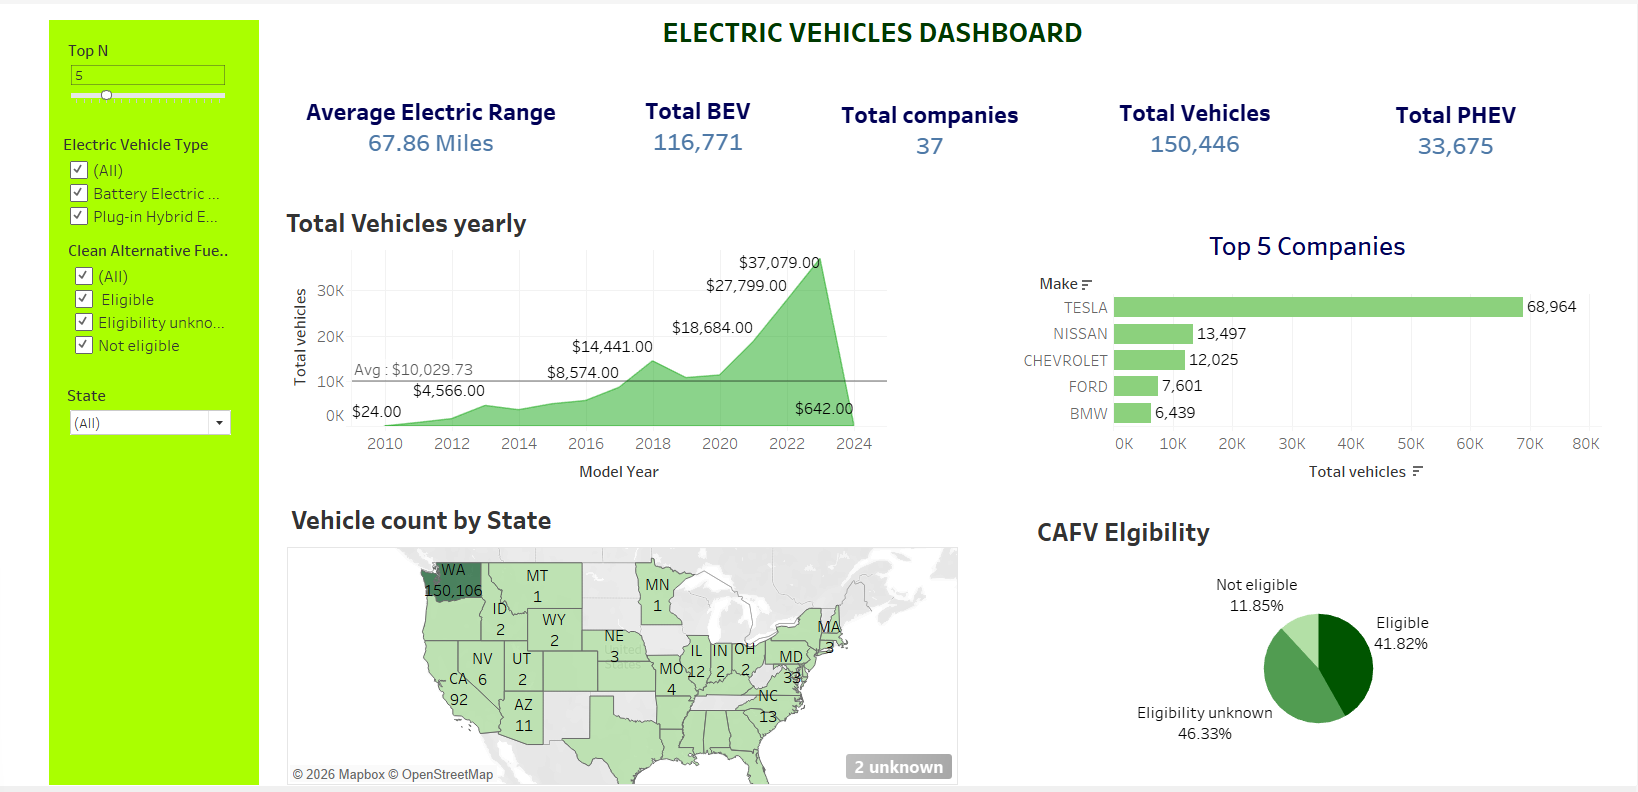

The dashboard page shown, as its layout file describes it:
{"tool":"tableau","page":{"name":"Dashboard 1","canvas":[1000,1000],"units":"permille","ordinal":0},"visuals":[{"type":"text","box":[350.6,7.7,258.8,55.1]},{"type":"parameter","param":"[Parameters].[Parameter 1]","box":[37.9,46.1,87.9,90.9]},{"type":"worksheet","title":"Total companies","mark":"Automatic","box":[434.6,106.3,153.8,108.8]},{"type":"worksheet","title":"Total BEV ","mark":"Automatic","box":[351.1,115.2,66.5,139.6]},{"type":"worksheet","title":"Average Electric Range","mark":"Automatic","box":[165.9,116.5,165.4,157.5]},{"type":"worksheet","title":"Total Vehicles","mark":"Automatic","box":[613.2,117.8,90.1,103.7]},{"type":"worksheet","title":"Total PHEV ","mark":"Automatic","box":[762.1,120.4,84.6,138.3]},{"type":"filter","title":"Vehicle count by State","param":"[federated.1pims560fdahhd19a9emw0eajtfg].[none:Electric Vehicle Type:nk]","box":[35.2,166.5,87.9,124.2]},{"type":"worksheet","title":"Total Vehicles yearly","mark":"Area","rows":["Calculation_1197957548209876995"],"cols":["Model Year"],"box":[155.5,252.2,332.4,368.8]},{"type":"worksheet","title":"Top-10 ","mark":"Automatic","rows":["Make"],"cols":["Calculation_1197957548209876995"],"box":[557.1,281.7,323.6,339.3]},{"type":"filter","title":"CAFV Elgibility","param":"[federated.1pims560fdahhd19a9emw0eajtfg].[none:Clean Alternative Fuel Vehicle (C","box":[37.9,302.2,87.9,153.7]},{"type":"worksheet","title":"Vehicle count by State","mark":"Multipolygon","box":[158.2,632.5,368.7,367.5]},{"type":"worksheet","title":"CAFV Elgibility","mark":"Pie","box":[568.1,647.9,313.7,343.2]}]}

Visuals, with their boxes on the dashboard's canvas, which has no fixed pixel size, in thousandths of its width and height (x1, y1, x2, y2). These are canvas units, not pixel positions in the 1638x792 screenshot, which may show the page scaled, cropped or inside an application window:
text: [351, 8, 609, 63]
parameter: [38, 46, 126, 137]
"Total companies" worksheet: [435, 106, 588, 215]
"Total BEV " worksheet: [351, 115, 418, 255]
"Average Electric Range" worksheet: [166, 116, 331, 274]
"Total Vehicles" worksheet: [613, 118, 703, 222]
"Total PHEV " worksheet: [762, 120, 847, 259]
"Vehicle count by State" filter: [35, 166, 123, 291]
"Total Vehicles yearly" worksheet (Area marks): [156, 252, 488, 621]
"Top-10 " worksheet: [557, 282, 881, 621]
"CAFV Elgibility" filter: [38, 302, 126, 456]
"Vehicle count by State" worksheet (Multipolygon marks): [158, 632, 527, 1000]
"CAFV Elgibility" worksheet (Pie marks): [568, 648, 882, 991]
